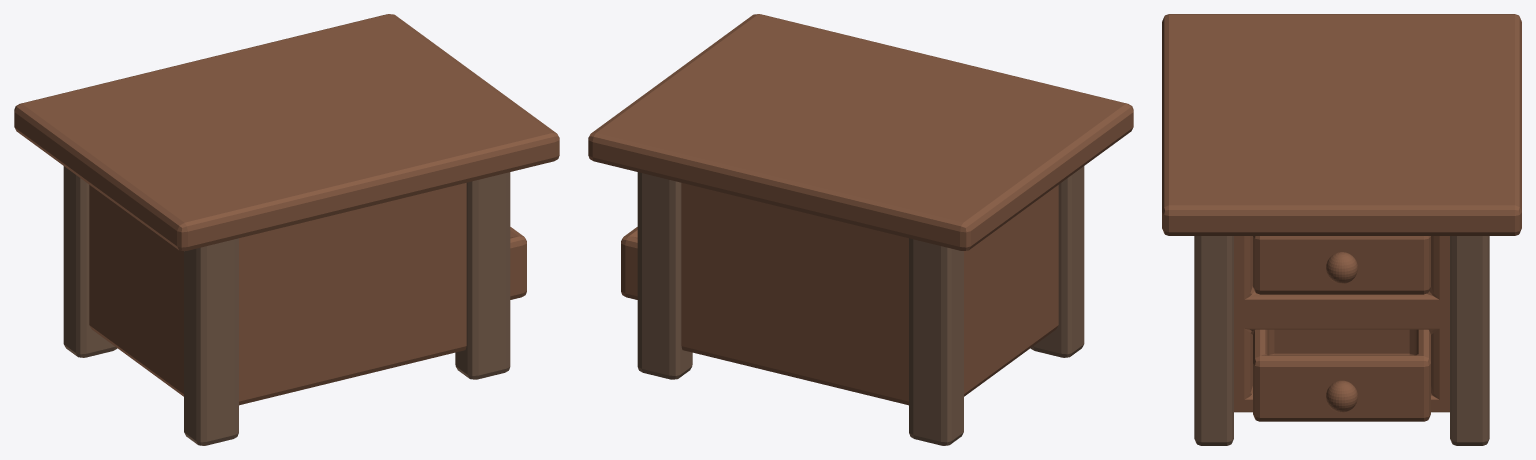
File: drawer.fbx
The picture shows the model from 3 angles, left to right: view 1: azimuth 30°, elevation 25°; view 2: azimuth 150°, elevation 25°; view 3: azimuth 270°, elevation 25°; orthographic projection. The views are drawn at different scales.
Parts seen in each view (by area): view 1: drawer; view 2: drawer; view 3: drawer.
Boxes of the visible parts, x1,y1,x2,y2 form: drawer: (14,14,559,445); drawer: (588,14,1133,445); drawer: (1162,14,1521,445).
Size of the model in its own units: 49.39 by 27.76 by 35.1.
